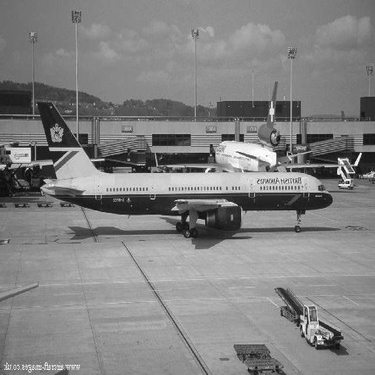airplane: (21, 96, 338, 238), (109, 76, 365, 187), (1, 141, 107, 175)
